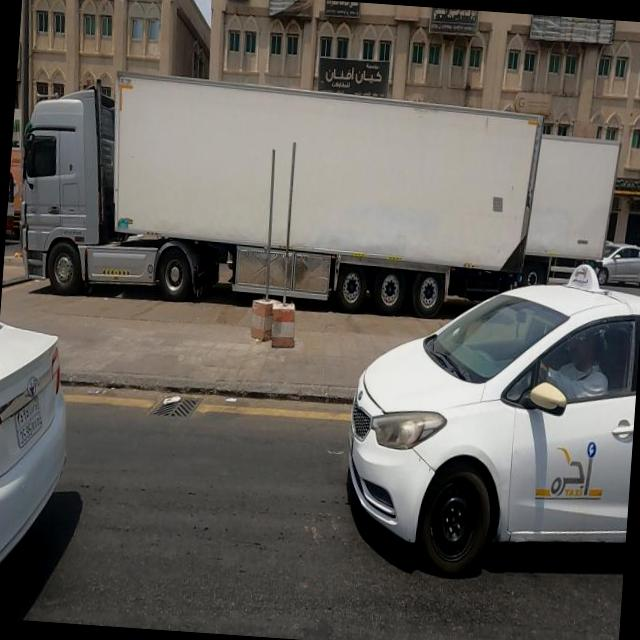debris: (476, 10, 640, 73), (235, 0, 341, 56), (134, 362, 202, 429), (197, 363, 260, 429)
